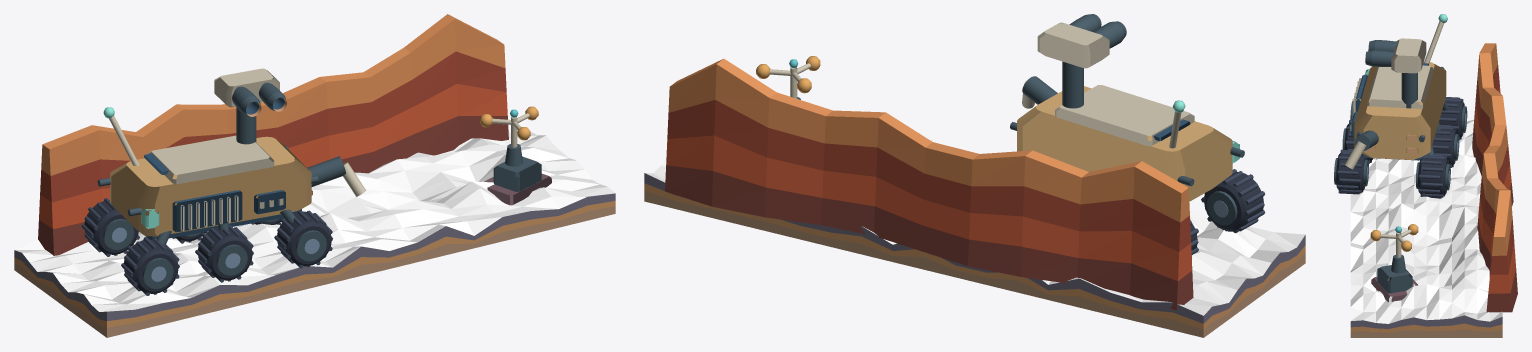
File: apolo-hadley.obj
3 renders of one model, left to right at view 1: azimuth 30°, elevation 25°; view 2: azimuth 150°, elevation 25°; view 3: azimuth 270°, elevation 25°, orthographic. The views are drawn at different scales.
Visible parts, largest first — view 1: apolo-hadley; view 2: apolo-hadley; view 3: apolo-hadley.
Part boxes in pixels (x1,y1,x2,y2): apolo-hadley: [14, 14, 615, 337]; apolo-hadley: [644, 14, 1305, 337]; apolo-hadley: [1334, 14, 1517, 337].
Size of the model in its own units: 1.68 by 0.6048 by 0.641.
